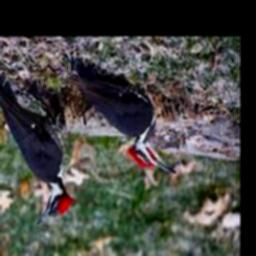Woodpecker: (65, 69, 176, 175), (0, 72, 75, 224)
